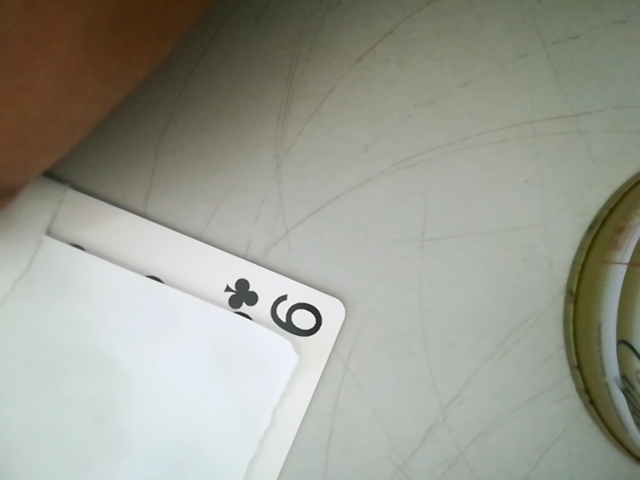mh 9: (216, 273, 338, 343)
